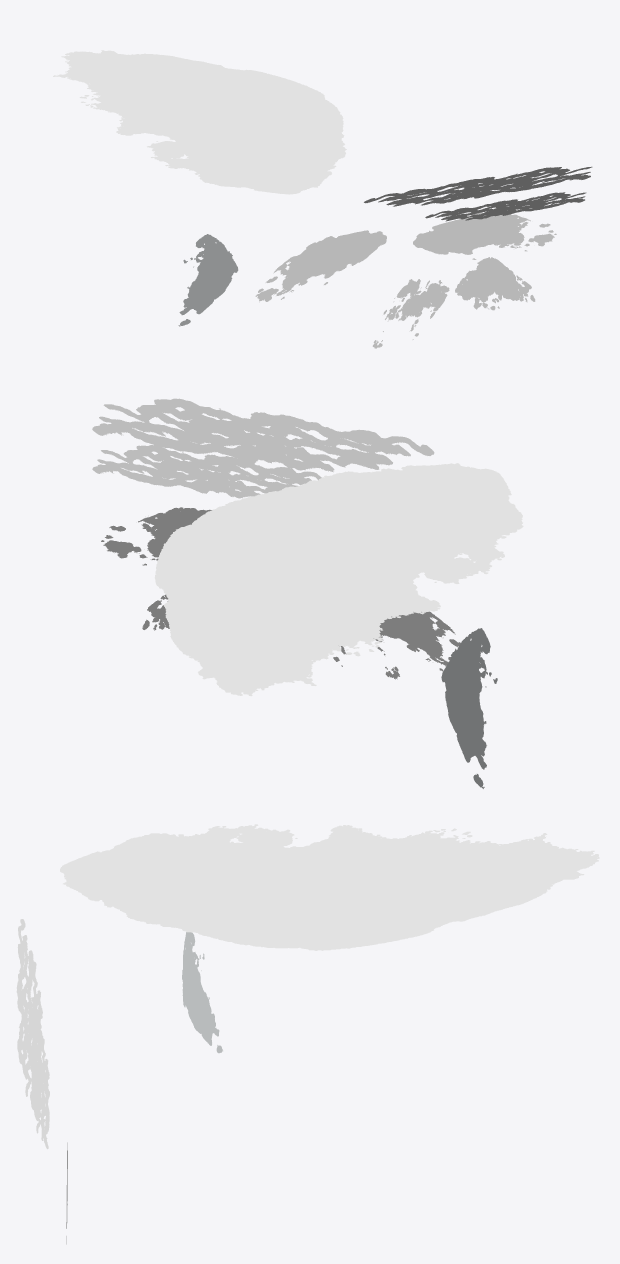
The picture shows the model from 3 angles, top to bottom: view 1: azimuth 30°, elevation 25°; view 2: azimuth 150°, elevation 25°; view 3: azimuth 270°, elevation 25°; orthographic projection. The views are drawn at different scales.
Parts seen in each view (by area): view 1: Cloud4_3_4, Cloud1_0, Cloud1_2_1, Cloud2.001_6, Cloud4_4_7, Cloud5_5, Cloud2_2, Cloud3_3; view 2: Cloud4_3_4, Cloud2.001_6, Cloud2_2, Cloud4_4_7, Cloud1_0, Cloud1_2_1; view 3: Cloud4_3_4, Cloud2.001_6, Cloud4_4_7, Cloud2_2.
Part boxes in pixels (bbox=[...]): Cloud4_3_4: bbox=[53, 50, 346, 194]; Cloud1_0: bbox=[255, 230, 386, 302]; Cloud1_2_1: bbox=[413, 212, 556, 259]; Cloud2.001_6: bbox=[364, 166, 592, 206]; Cloud4_4_7: bbox=[178, 234, 238, 326]; Cloud5_5: bbox=[455, 257, 535, 310]; Cloud2_2: bbox=[425, 192, 586, 221]; Cloud3_3: bbox=[372, 279, 449, 348]; Cloud4_3_4: bbox=[154, 463, 523, 696]; Cloud2.001_6: bbox=[92, 398, 434, 472]; Cloud2_2: bbox=[92, 445, 321, 498]; Cloud4_4_7: bbox=[441, 628, 497, 788]; Cloud1_0: bbox=[373, 611, 481, 671]; Cloud1_2_1: bbox=[101, 507, 211, 565]; Cloud4_3_4: bbox=[60, 824, 599, 950]; Cloud2.001_6: bbox=[16, 919, 43, 1117]; Cloud4_4_7: bbox=[182, 932, 222, 1053]; Cloud2_2: bbox=[30, 1026, 49, 1149].
Bounding box in the file's own units: 30.26 × 13.29 × 31.75.
7 materials, 7 textured.
